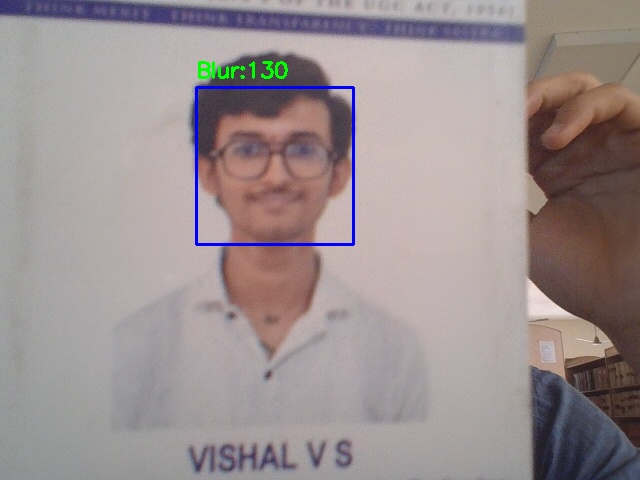fake: (196, 87, 353, 244)
